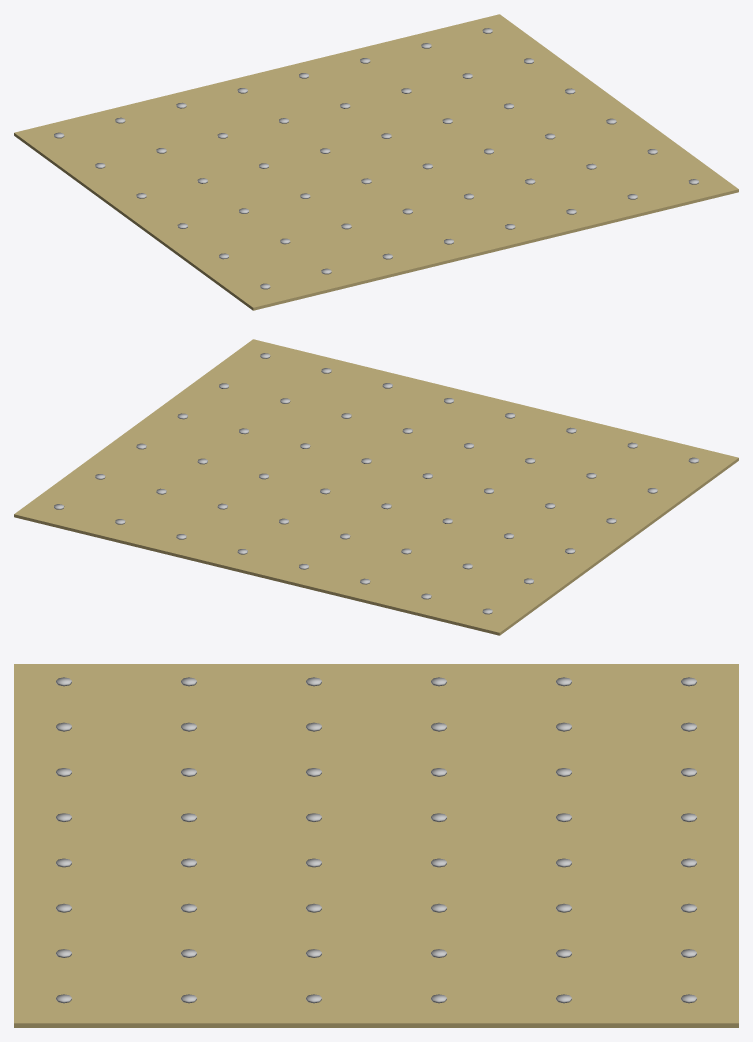
The model's file is 242_L116_NAND_SocketBank.glb.
The picture shows the model from 3 angles, top to bottom: view 1: azimuth 30°, elevation 25°; view 2: azimuth 150°, elevation 25°; view 3: azimuth 270°, elevation 25°; orthographic projection. The views are drawn at different scales.
Parts seen in each view (by area): view 1: __PSMAT__Gold_ENIG, __PSMAT__BGA_SolderBall; view 2: __PSMAT__Gold_ENIG, __PSMAT__BGA_SolderBall; view 3: __PSMAT__Gold_ENIG, __PSMAT__BGA_SolderBall.
Boxes of the visible parts, bbox=[...] form: __PSMAT__Gold_ENIG: bbox=[14, 14, 738, 310]; __PSMAT__BGA_SolderBall: bbox=[54, 28, 698, 289]; __PSMAT__Gold_ENIG: bbox=[14, 339, 738, 635]; __PSMAT__BGA_SolderBall: bbox=[54, 353, 698, 614]; __PSMAT__Gold_ENIG: bbox=[14, 664, 738, 1027]; __PSMAT__BGA_SolderBall: bbox=[56, 677, 696, 1003].
Size of the model in its own units: 0.034 by 0.0004 by 0.029.
